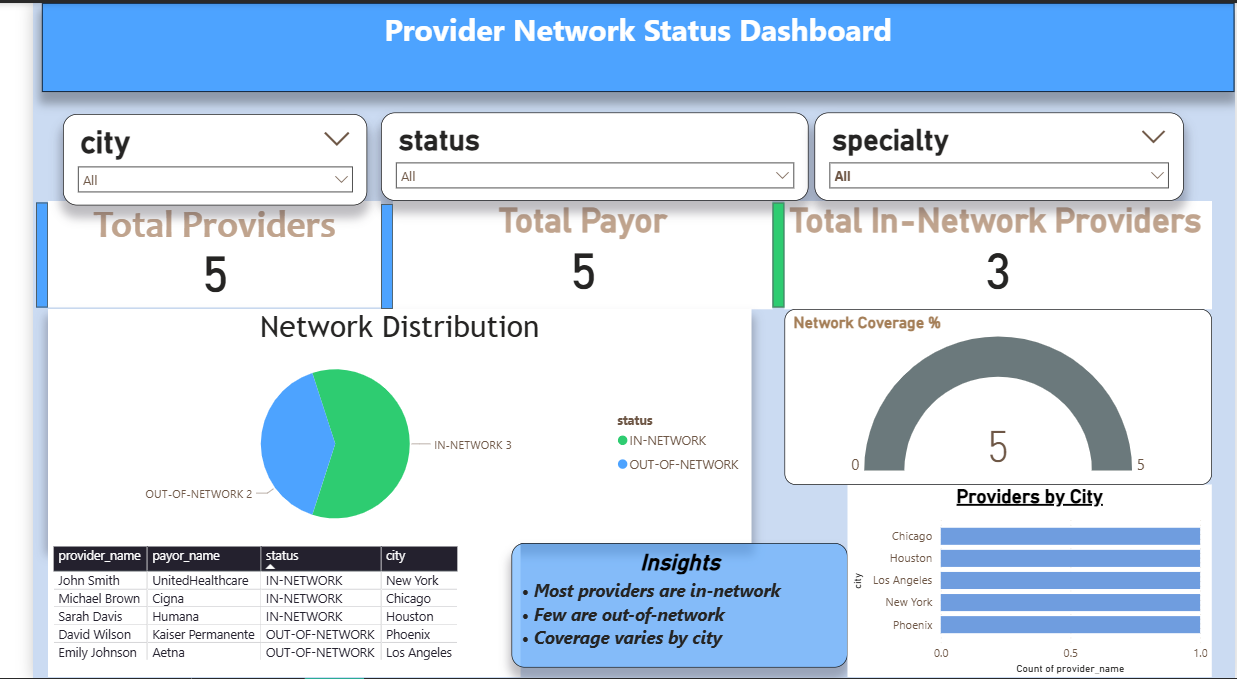

What the dashboard file says about the page in this screenshot:
{"tool":"powerbi","page":{"name":"Page 1","canvas":[1280,720],"ordinal":0},"visuals":[{"type":"textbox","box":[9.8,0,1270.3,94.3],"z":0},{"type":"card","title":"Total In-Network Providers","fields":{"Values":["CountNonNull(provider_network network_status.payor_id)"]},"box":[800.4,210.9,455.3,115],"z":1000},{"type":"card","title":"Total Payor","fields":{"Values":["CountNonNull(provider_network payors.payor_id)"]},"box":[383.4,210.9,404.2,115],"z":2000},{"type":"card","title":"Total Providers","fields":{"Values":["CountNonNull(provider_network providers.provider_id)"]},"box":[16,210.9,354.7,113.4],"z":3000},{"type":"pieChart","title":"Network Distribution","fields":{"Category":["provider_network network_status.status"],"Y":["CountNonNull(provider_network network_status.provider_id)"]},"box":[16,325.9,749.3,249.2],"z":4000},{"type":"tableEx","fields":{"Values":["provider_network providers.provider_name","provider_network payors.payor_name","provider_network network_status.status","provider_network providers.city"]},"box":[16,573.6,503.3,145.4],"z":5000},{"type":"slicer","fields":{"Values":["provider_network providers.city"]},"box":[32,118.2,324.3,97.5],"z":6000},{"type":"slicer","fields":{"Values":["provider_network network_status.status"]},"box":[370.7,116.6,455.3,94.3],"z":7000},{"type":"slicer","fields":{"Values":["provider_network providers.specialty"]},"box":[832.4,116.6,393,94.3],"z":8000},{"type":"shape","box":[3.2,212.5,12.8,111.8],"z":9000},{"type":"shape","box":[370.7,214.1,12.8,111.8],"z":10000},{"type":"shape","box":[787.7,212.5,12.8,111.8],"z":11000},{"type":"textbox","title":"Insights","box":[509.7,575.2,357.9,132.6],"z":12000},{"type":"barChart","title":"Providers by City","fields":{"Y":["CountNonNull(provider_network providers.provider_name)"],"Category":["provider_network providers.city"]},"box":[867.5,512.9,388.2,206.1],"z":13000},{"type":"gauge","title":"Network Coverage %","fields":{"Y":["CountNonNull(provider_network network_status.status)"],"MaxValue":["CountNonNull(provider_network providers.provider_name)"]},"box":[800,326,455,187],"z":14000}]}

Visuals, with their boxes in screenshot pixels (x1, y1, x2, y2), scaled from the page's 1280x720 canvas onto the 1237x679 screenshot:
textbox: 9:0:1236:89
"Total In-Network Providers" card: 774:199:1214:307
"Total Payor" card: 371:199:761:307
"Total Providers" card: 15:199:358:306
"Network Distribution" pieChart: 15:307:740:542
tableEx - provider_network providers.provider_name x provider_network payors.payor_name: 15:541:502:678
slicer - provider_network providers.city: 31:111:344:203
slicer - provider_network network_status.status: 358:110:798:199
slicer - provider_network providers.specialty: 804:110:1184:199
shape: 3:200:15:306
shape: 358:202:371:307
shape: 761:200:774:306
"Insights" textbox: 493:542:838:667
"Providers by City" barChart: 838:484:1214:678
"Network Coverage %" gauge: 773:307:1213:484
